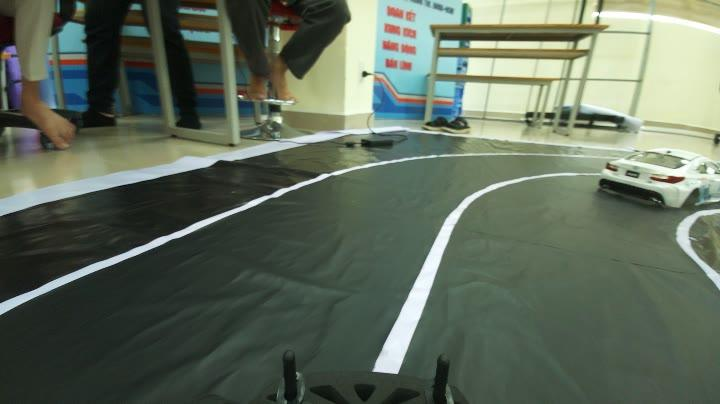car: (598, 136, 718, 214)
